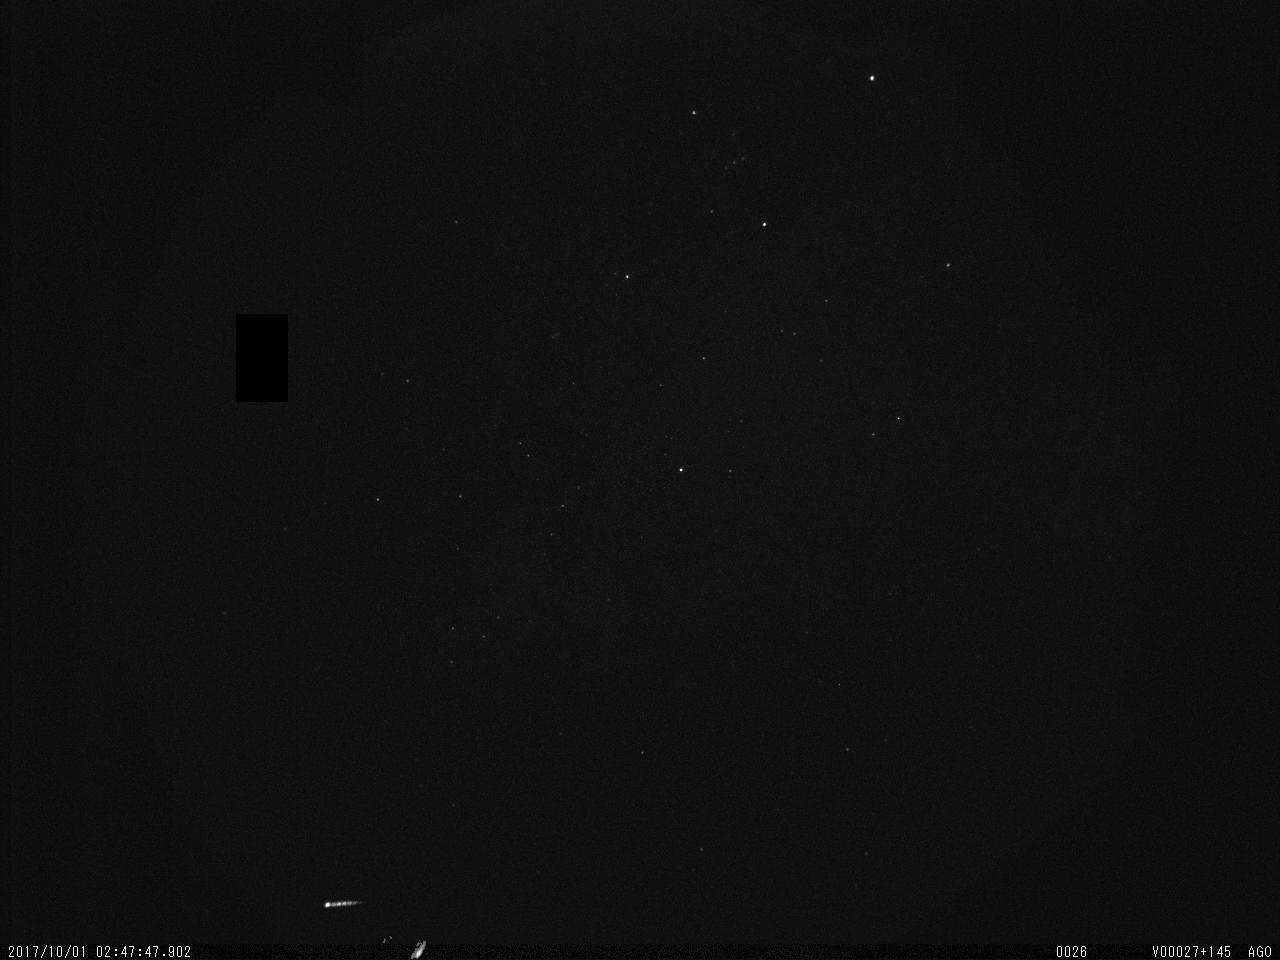TLE: (365, 913, 447, 960)
